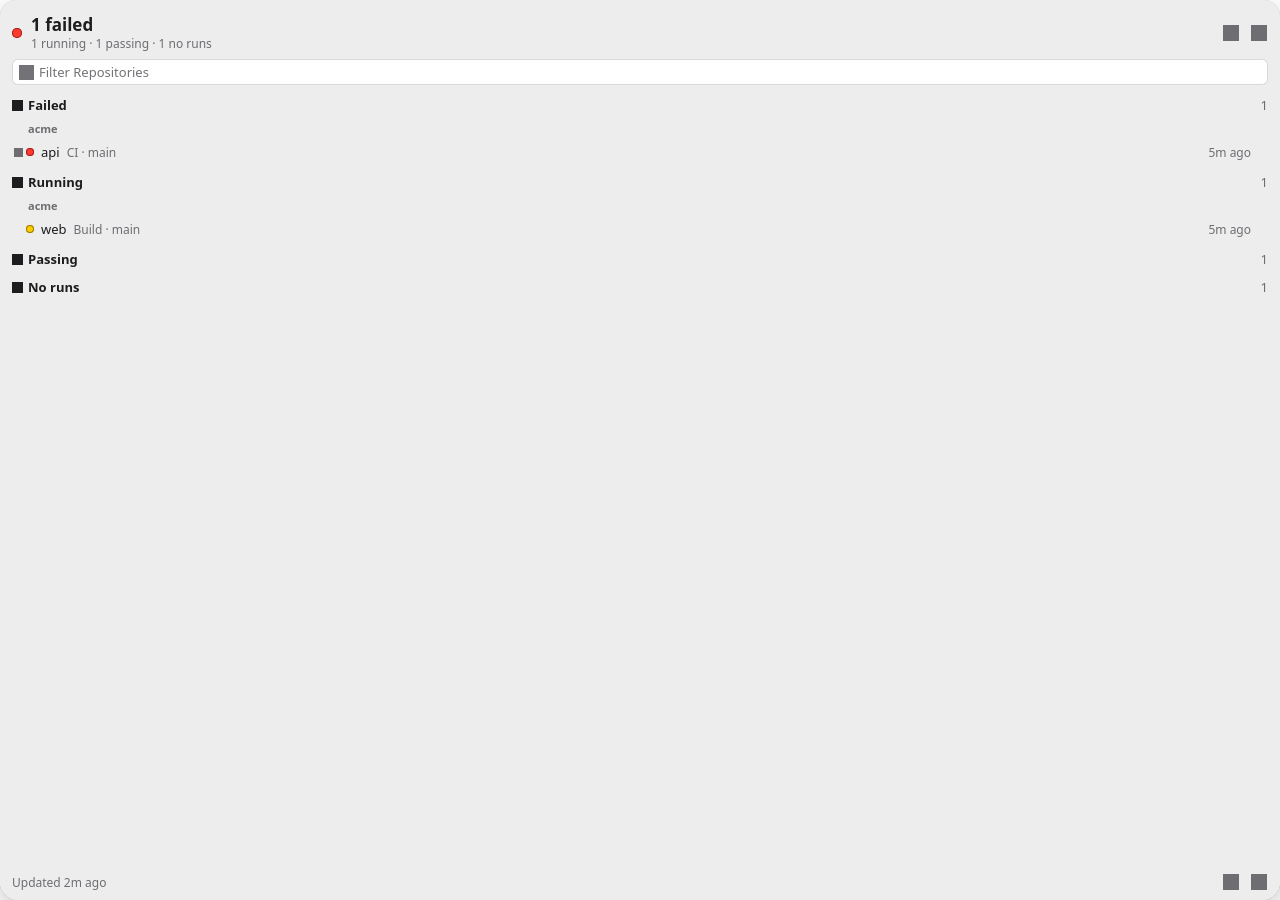
it: Popup header actions › reports a pause failure
The width and height of the screenshot is (1280, 900).
Click the button named "Pause". click: coordinates (1259, 32)
box: x1=1246 y1=20 x2=1272 y2=44
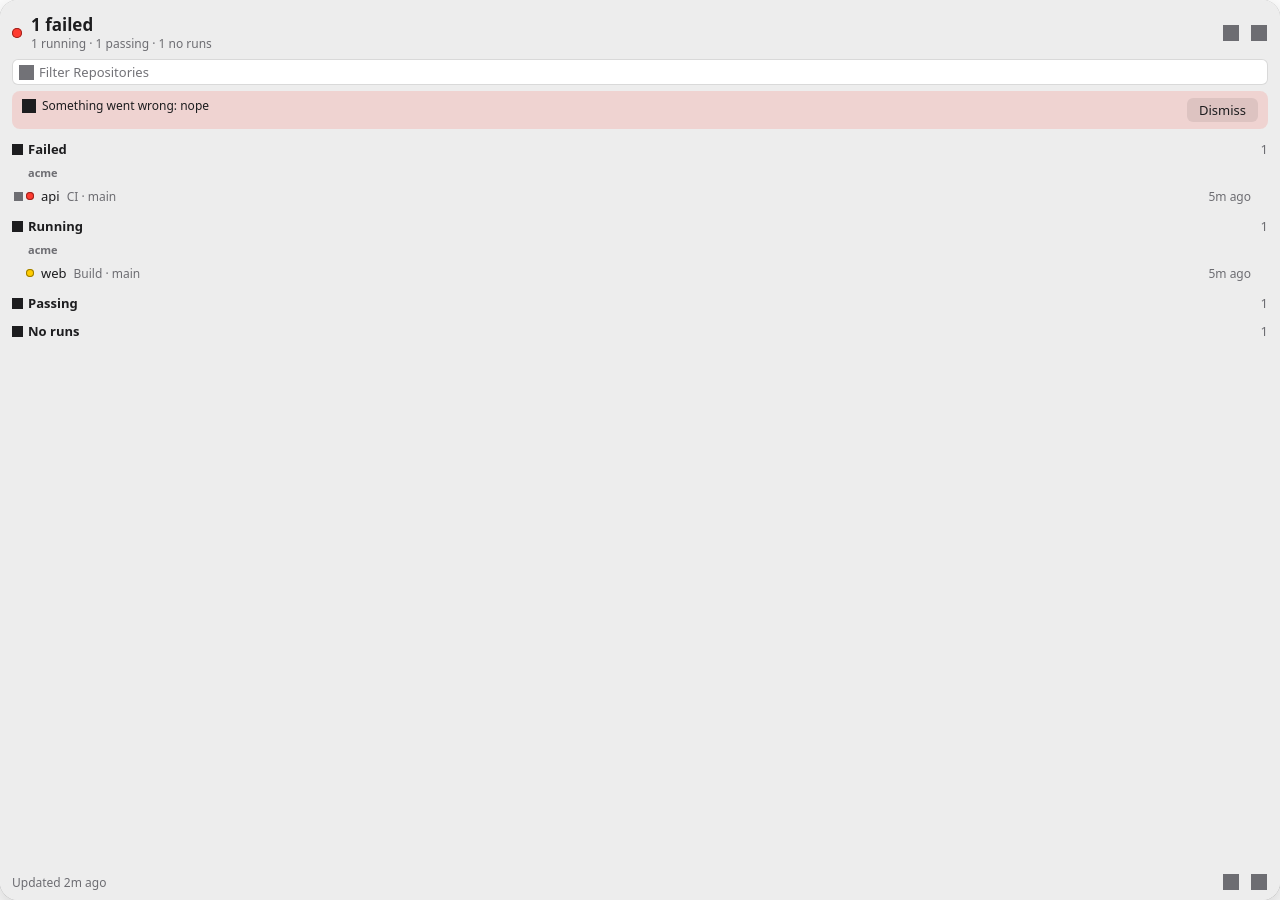
Now the message shows "nope", box x1=42 y1=97 x2=209 y2=114
